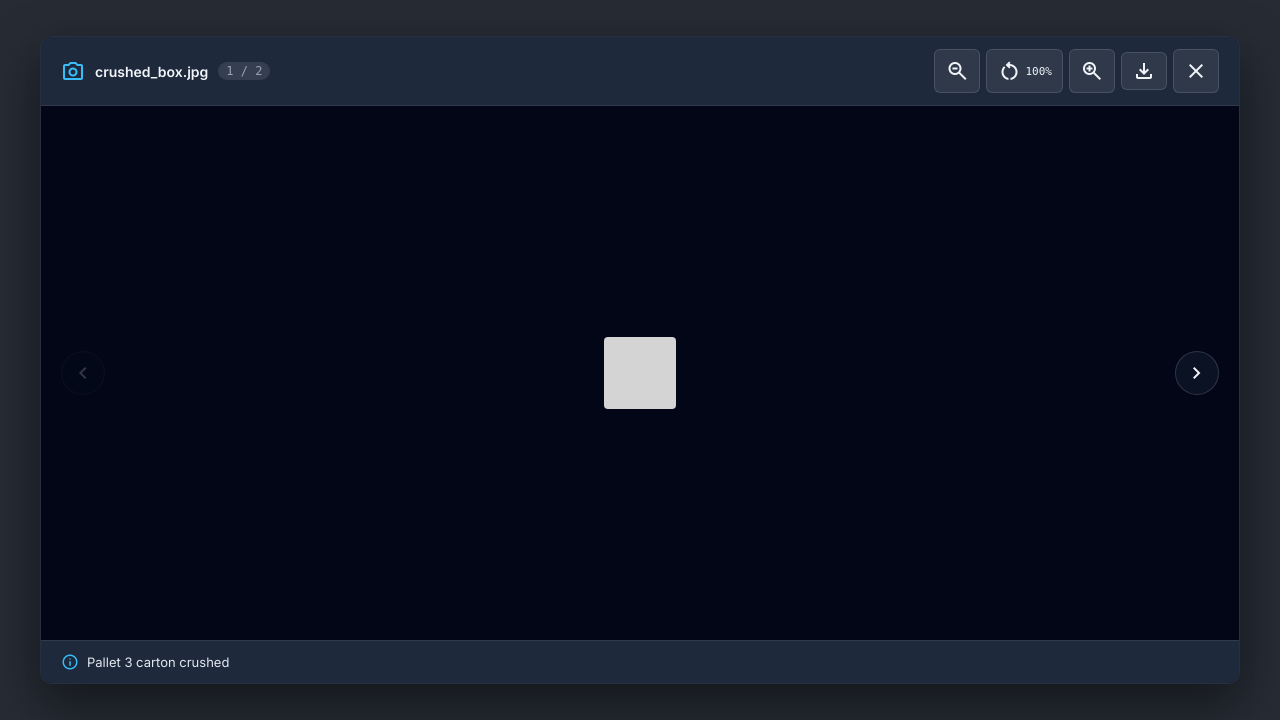
Test case: PhotoLightboxModal.vue - Evidence Photo Viewer & Zoom Controls › navigates to next and previous photos
Click the button with class "nav-next".
click(1197, 373)  # box top-left (1175, 351), bottom-right (1219, 395)
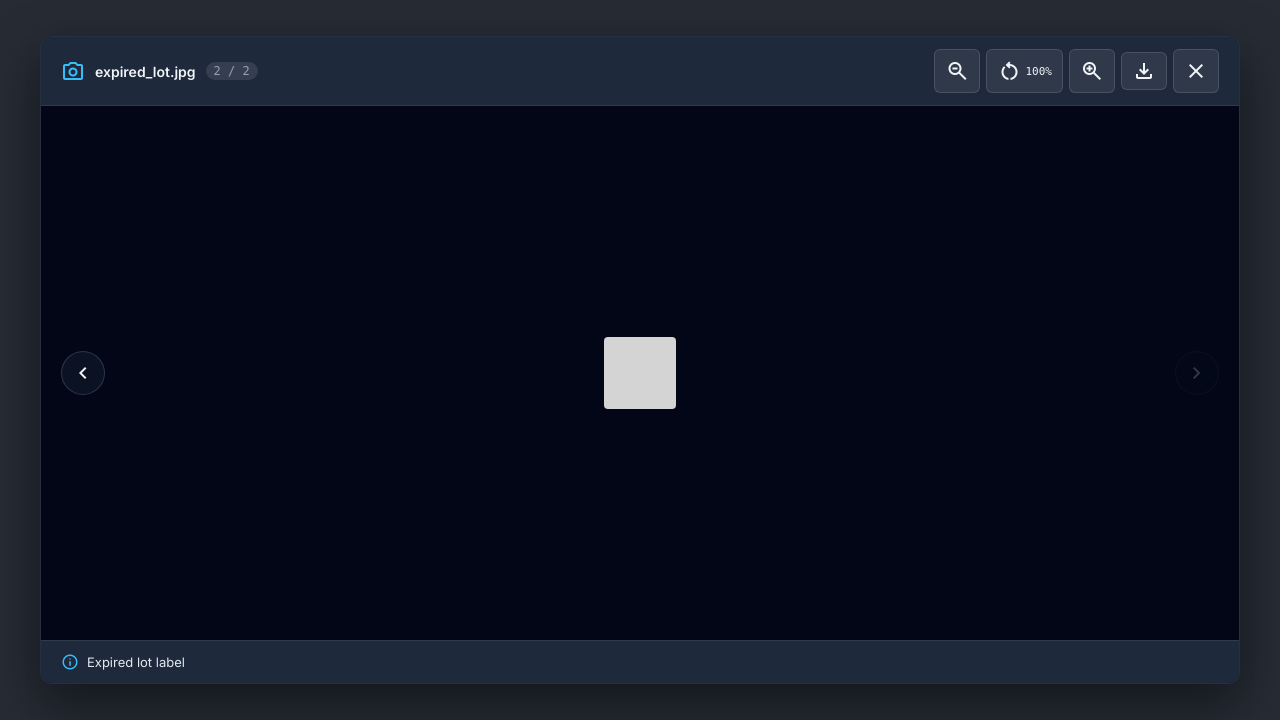
Expected: the text "expired_lot.jpg" is shown, top-left (95, 62), bottom-right (196, 80)
Expected: the text "2 / 2" is shown, top-left (206, 62), bottom-right (258, 80)
Click the button with class "nav-prev".
click(83, 373)  # box top-left (61, 351), bottom-right (105, 395)
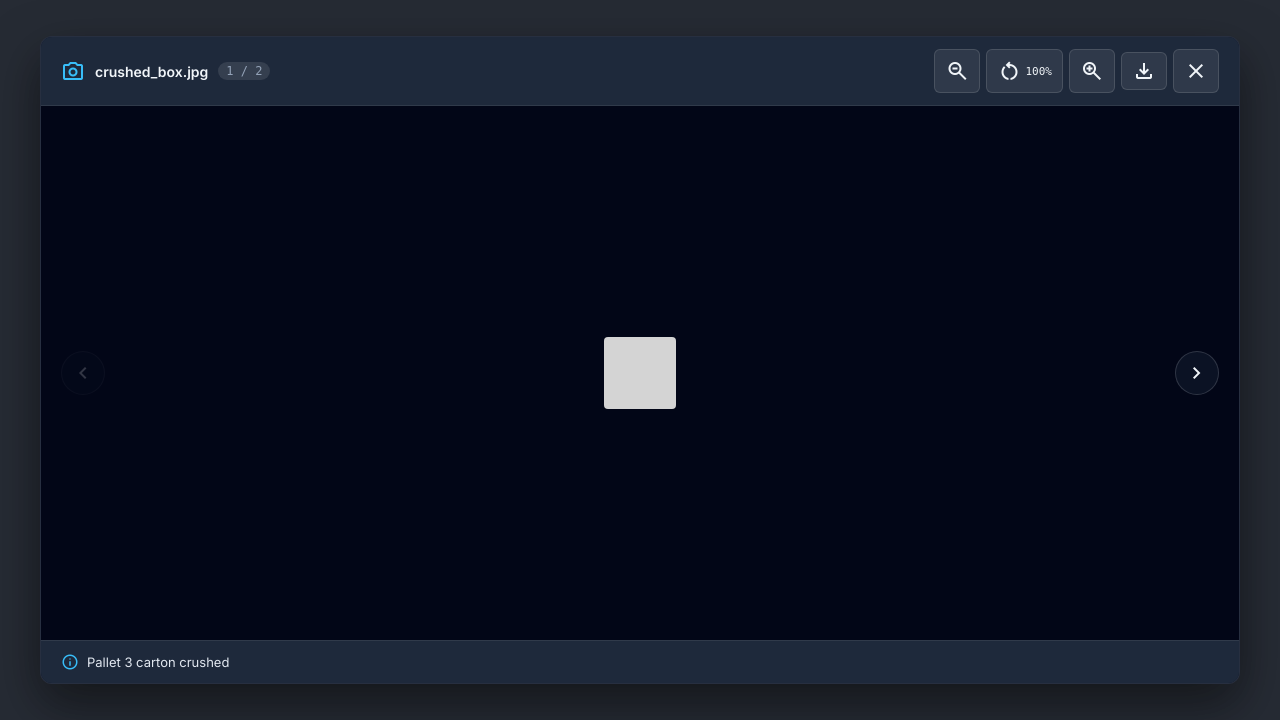
Expected: the text "crushed_box.jpg" is shown, top-left (95, 62), bottom-right (208, 80)
Expected: the text "1 / 2" is shown, top-left (218, 62), bottom-right (270, 80)
